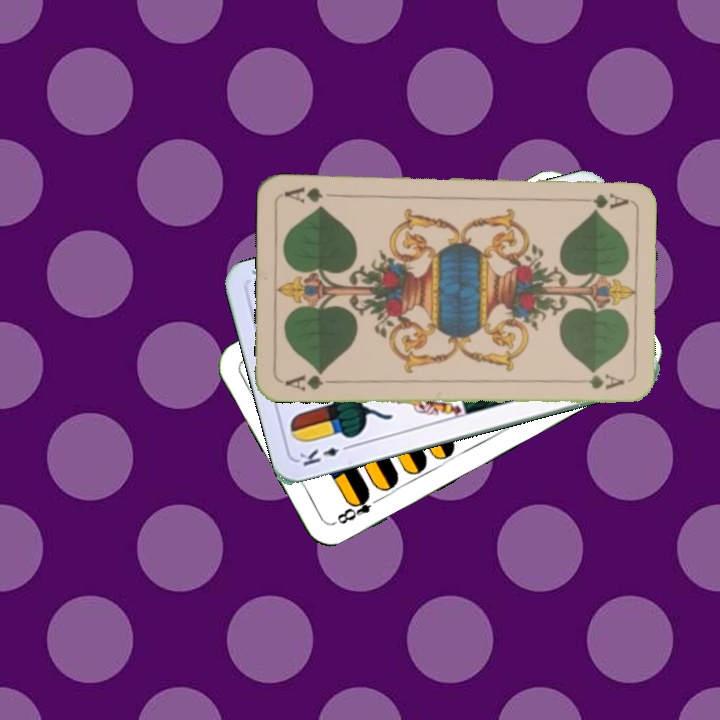E8: (330, 489, 385, 527)
EK: (295, 440, 354, 469)
GA: (281, 367, 338, 394), (571, 188, 630, 211)
